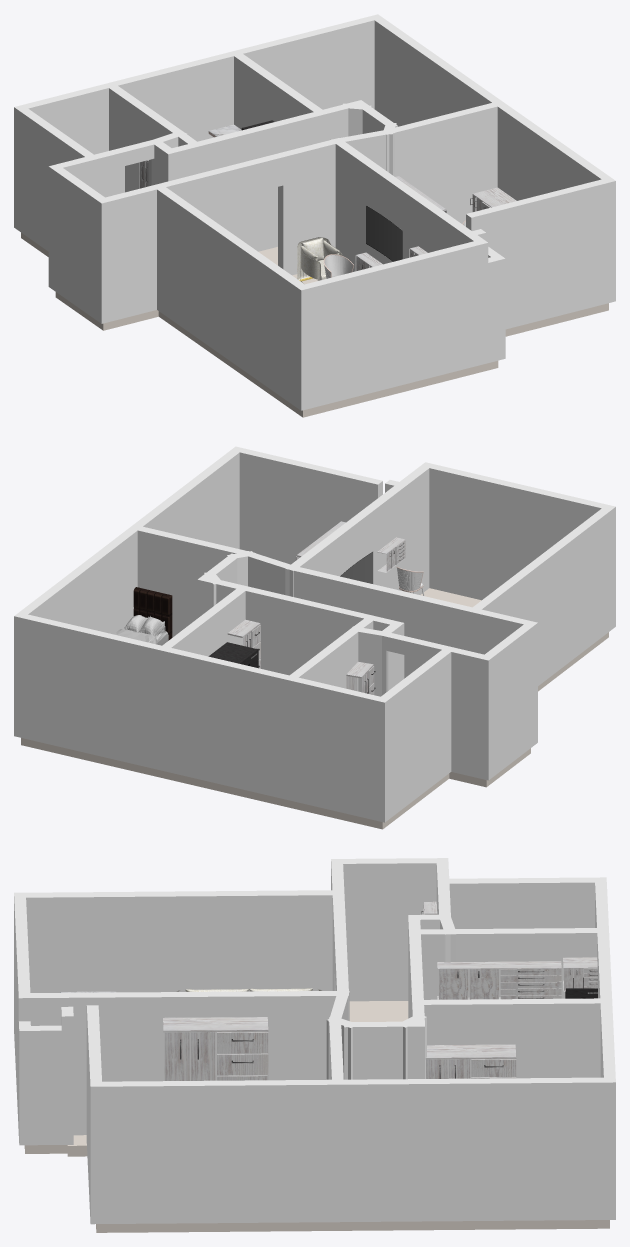
The model's file is room4.glb.
The picture shows the model from 3 angles, top to bottom: view 1: azimuth 30°, elevation 25°; view 2: azimuth 150°, elevation 25°; view 3: azimuth 270°, elevation 25°; orthographic projection. The views are drawn at different scales.
Parts seen in each view (by area): view 1: part_22, part_70, part_1, part_91, part_67, part_100, part_93, part_4, part_63, part_60, part_34, part_6 (+36 smaller); view 2: part_31, part_7, part_22, part_28, part_34, part_69, part_100, part_93, part_0, part_90, part_63, part_4 (+38 smaller); view 3: part_64, part_61, part_21, part_94, part_40, part_3, part_33, part_108, part_54, part_102, part_2, part_115 (+35 smaller).
Part boxes in pixels (bbox=[...]): part_22: bbox=[157, 189, 301, 410]; part_70: bbox=[301, 244, 483, 410]; part_1: bbox=[471, 181, 615, 329]; part_91: bbox=[166, 144, 335, 275]; part_67: bbox=[386, 106, 497, 223]; part_100: bbox=[341, 262, 448, 363]; part_93: bbox=[335, 144, 473, 271]; part_4: bbox=[48, 167, 101, 323]; part_63: bbox=[374, 20, 491, 126]; part_60: bbox=[497, 107, 601, 200]; part_34: bbox=[14, 107, 84, 251]; part_6: bbox=[243, 20, 374, 108]; part_31: bbox=[157, 649, 293, 801]; part_7: bbox=[14, 616, 156, 769]; part_22: bbox=[482, 507, 615, 685]; part_28: bbox=[293, 681, 384, 822]; part_34: bbox=[385, 652, 451, 820]; part_69: bbox=[429, 468, 601, 600]; part_100: bbox=[461, 485, 570, 571]; part_93: bbox=[300, 468, 429, 594]; part_0: bbox=[239, 452, 377, 564]; part_90: bbox=[285, 569, 467, 678]; part_63: bbox=[28, 531, 137, 634]; part_4: bbox=[488, 623, 537, 779]; part_64: bbox=[333, 1082, 615, 1221]; part_61: bbox=[90, 1084, 343, 1223]; part_21: bbox=[26, 895, 332, 992]; part_94: bbox=[24, 995, 348, 1135]; part_40: bbox=[424, 1003, 600, 1078]; part_3: bbox=[343, 863, 436, 1001]; part_33: bbox=[449, 882, 594, 928]; part_108: bbox=[24, 1145, 609, 1232]; part_54: bbox=[444, 933, 597, 998]; part_102: bbox=[31, 1032, 67, 1145]; part_2: bbox=[86, 1005, 102, 1224]; part_115: bbox=[217, 1032, 268, 1080].
Bounding box in the file's own units: 9.14 × 2.77 × 10.17.
28 materials, 9 textured.
